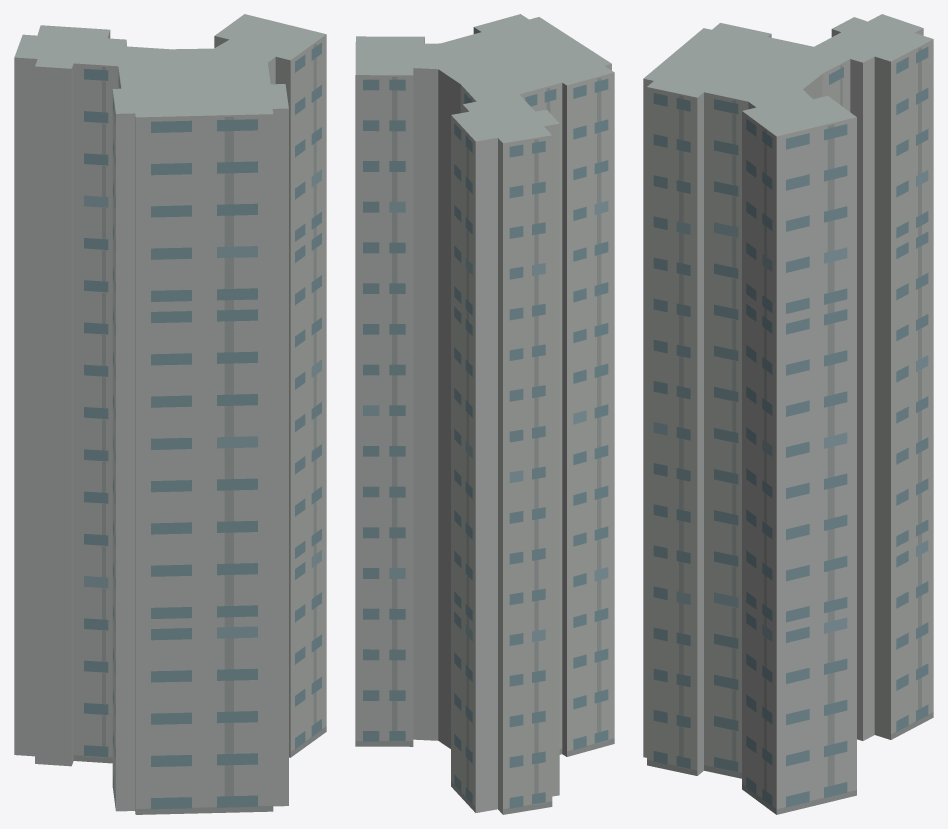
File: residential-141a59da-726b-4321-8c5f-f043fb7ec7b7.glb
3 renders of one model, left to right at view 1: azimuth 30°, elevation 25°; view 2: azimuth 150°, elevation 25°; view 3: azimuth 270°, elevation 25°, orthographic. The views are drawn at different scales.
Visible parts, largest first — view 1: residential-141a59da-726b-4321-8c5f-f043fb7ec7b7.tmp; view 2: residential-141a59da-726b-4321-8c5f-f043fb7ec7b7.tmp; view 3: residential-141a59da-726b-4321-8c5f-f043fb7ec7b7.tmp.
Boxes of the visible parts, left/top/right/bottom form: residential-141a59da-726b-4321-8c5f-f043fb7ec7b7.tmp: left=14, top=14, right=326, bottom=814; residential-141a59da-726b-4321-8c5f-f043fb7ec7b7.tmp: left=355, top=14, right=614, bottom=814; residential-141a59da-726b-4321-8c5f-f043fb7ec7b7.tmp: left=643, top=14, right=933, bottom=814.
Size of the model in its own units: 37.57 by 97 by 37.65.
